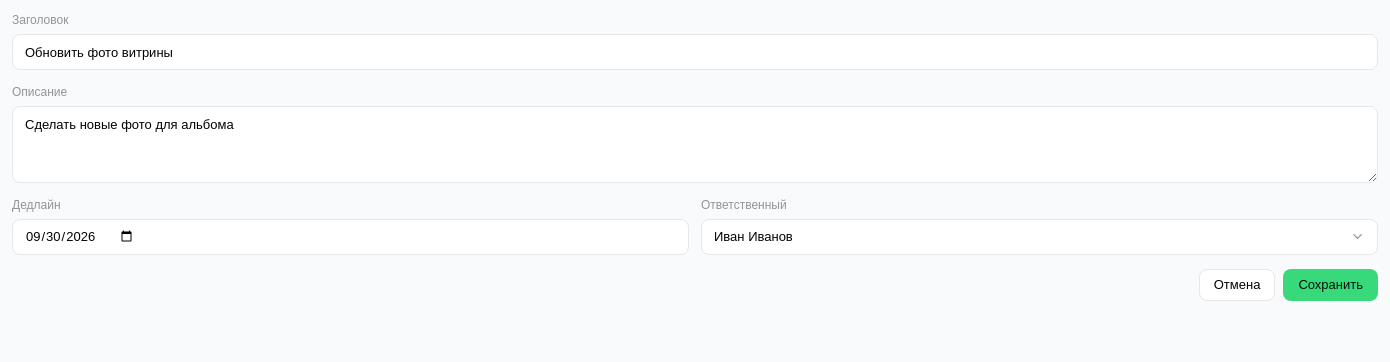
Test case: EditTaskFields › список ответственных приходит из GET /v1/directory/employees
Click the dropdown named "Ответственный" at (753, 236), box [701, 218, 1378, 254]
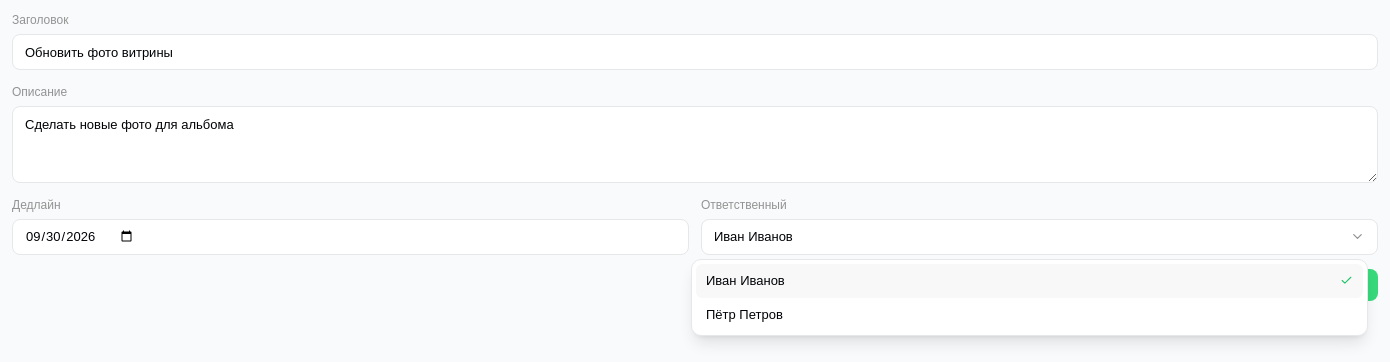
Expected: the option "Иван Иванов" is shown, [696, 264, 1363, 298]
Expected: the option "Пётр Петров" is shown, [706, 306, 783, 322]
